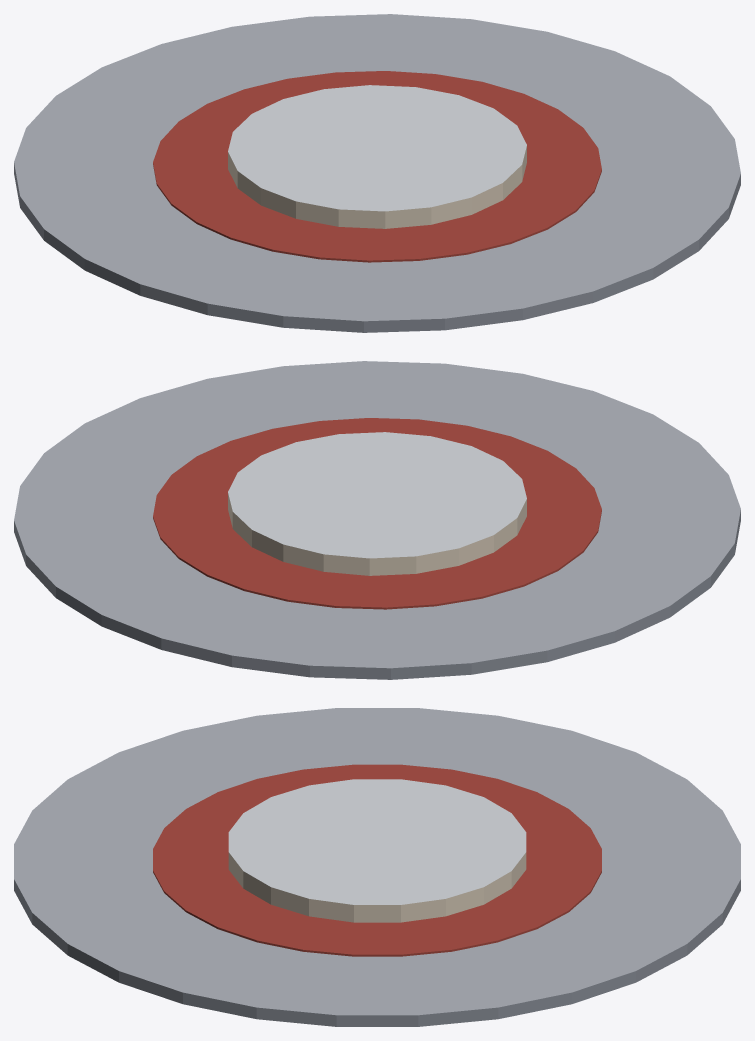
File: TreePlaza_Plaza.glb
The picture shows the model from 3 angles, top to bottom: view 1: azimuth 30°, elevation 25°; view 2: azimuth 150°, elevation 25°; view 3: azimuth 270°, elevation 25°; orthographic projection.
Parts seen in each view (by area): view 1: TreePlaza_Plaza; view 2: TreePlaza_Plaza; view 3: TreePlaza_Plaza.
Part boxes in pixels (x1,y1,x2,y2): TreePlaza_Plaza: [14, 14, 740, 332]; TreePlaza_Plaza: [14, 361, 740, 679]; TreePlaza_Plaza: [14, 708, 740, 1026].
Size of the model in its own units: 33.79 by 1.6 by 33.79.
